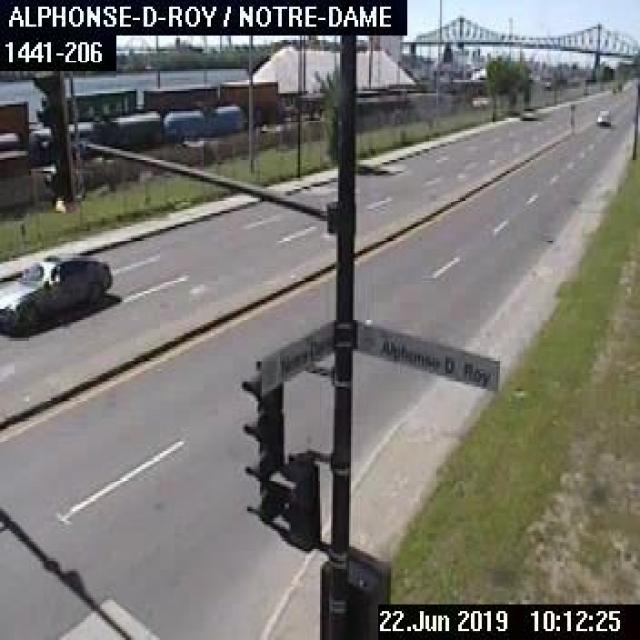vehicle: (0, 251, 111, 336), (594, 109, 611, 124), (522, 104, 534, 118)
